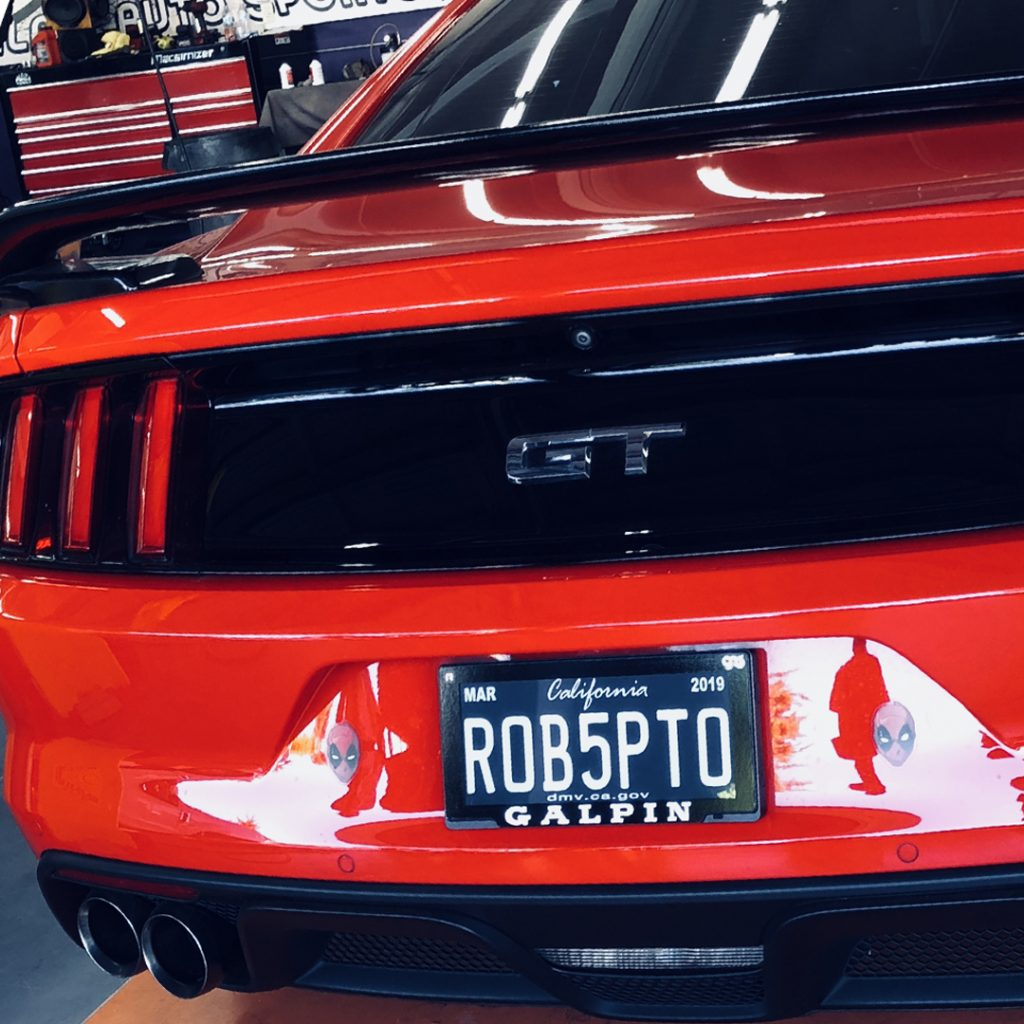license plate: (433, 655, 772, 842)
